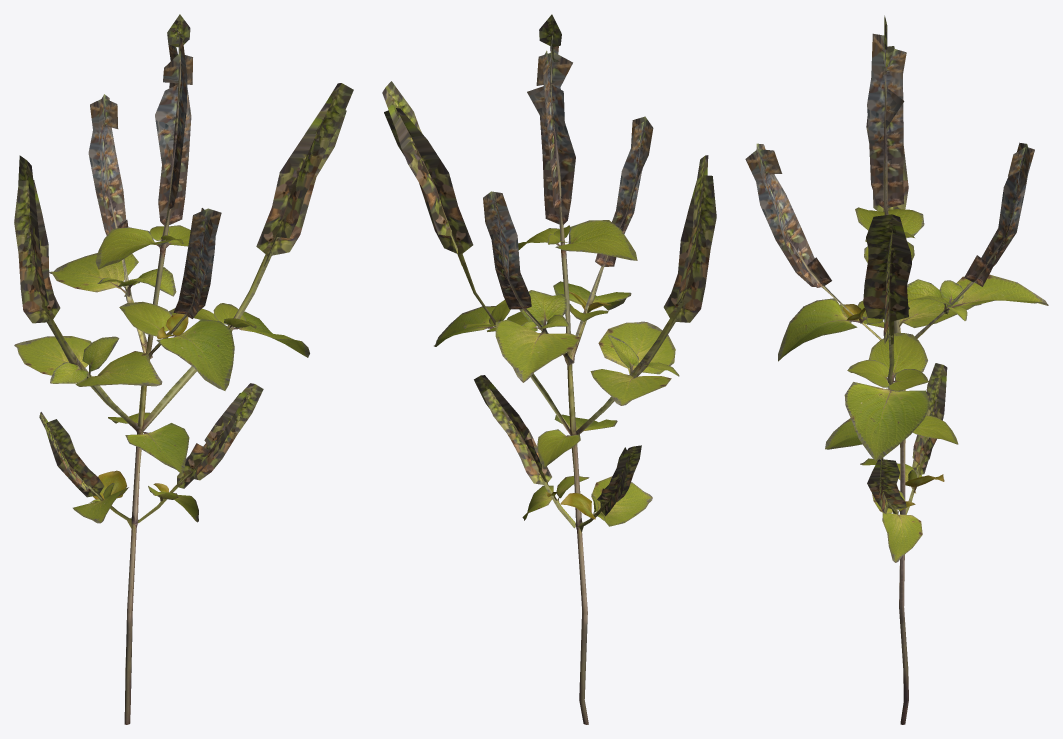
Rendered from shrub_03_v1.glb.
3 renders of one model, left to right at view 1: azimuth 30°, elevation 25°; view 2: azimuth 150°, elevation 25°; view 3: azimuth 270°, elevation 25°, orthographic. The views are drawn at different scales.
Visible parts, largest first — view 1: lod0; view 2: lod0; view 3: lod0.
Part boxes in pixels (x1=…): lod0: x1=14, y1=14, x2=353, y2=724; lod0: x1=382, y1=14, x2=716, y2=724; lod0: x1=745, y1=15, x2=1048, y2=724.
Size of what is drawn, in the model's own units: 0.2006 by 0.4028 by 0.1512.
1 material, 1 textured.
